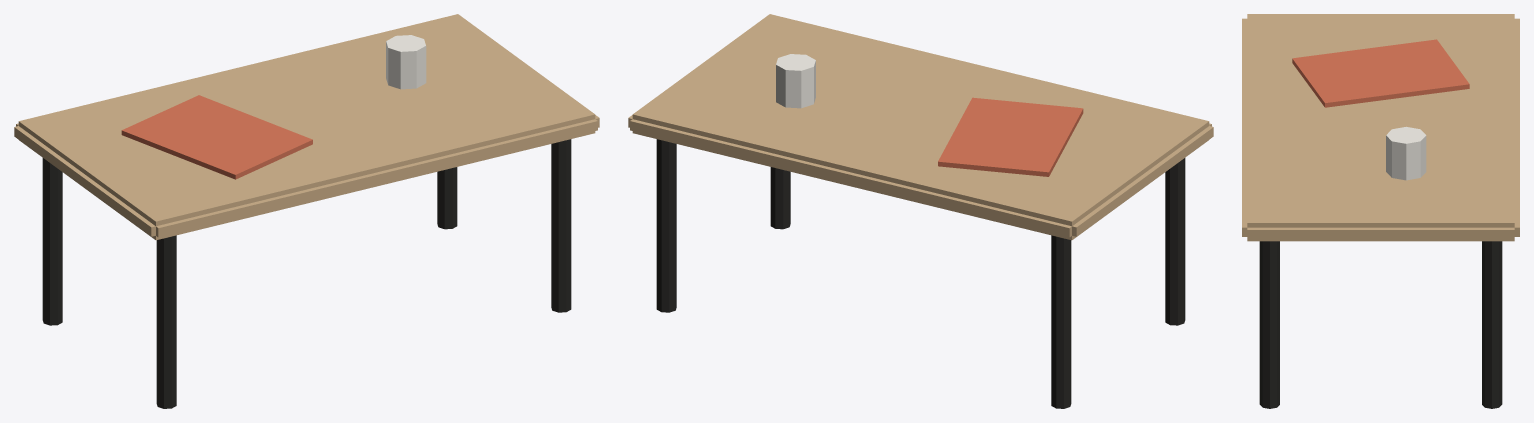
File: lowtable.glb
3 views of the same model, side by side, from view 1: azimuth 30°, elevation 25°; view 2: azimuth 150°, elevation 25°; view 3: azimuth 270°, elevation 25° (orthographic). The views are drawn at different scales.
Visible parts, largest first — view 1: Top.002, Magazine, Leg.010, Leg.008, Leg.009, Cup, Leg.011; view 2: Top.002, Magazine, Leg.011, Leg.009, Leg.008, Cup, Leg.010; view 3: Top.002, Magazine, Leg.010, Leg.011, Cup.
Part boxes in pixels (bbox=[...]): Top.002: bbox=[14, 14, 599, 240]; Magazine: bbox=[121, 95, 312, 179]; Leg.010: bbox=[551, 139, 571, 312]; Leg.008: bbox=[156, 235, 176, 408]; Leg.009: bbox=[42, 158, 62, 325]; Cup: bbox=[386, 35, 426, 89]; Leg.011: bbox=[437, 167, 457, 229]; Top.002: bbox=[628, 14, 1213, 240]; Magazine: bbox=[938, 97, 1083, 176]; Leg.011: bbox=[656, 139, 676, 312]; Leg.009: bbox=[1051, 235, 1071, 408]; Leg.008: bbox=[1165, 158, 1185, 325]; Cup: bbox=[776, 54, 815, 108]; Leg.010: bbox=[770, 167, 790, 229]; Top.002: bbox=[1242, 14, 1519, 241]; Magazine: bbox=[1292, 39, 1469, 107]; Leg.010: bbox=[1259, 241, 1279, 408]; Leg.011: bbox=[1482, 241, 1502, 408]; Cup: bbox=[1386, 126, 1426, 180].
Bounding box in the file's own units: 1 × 0.5 × 0.55.
